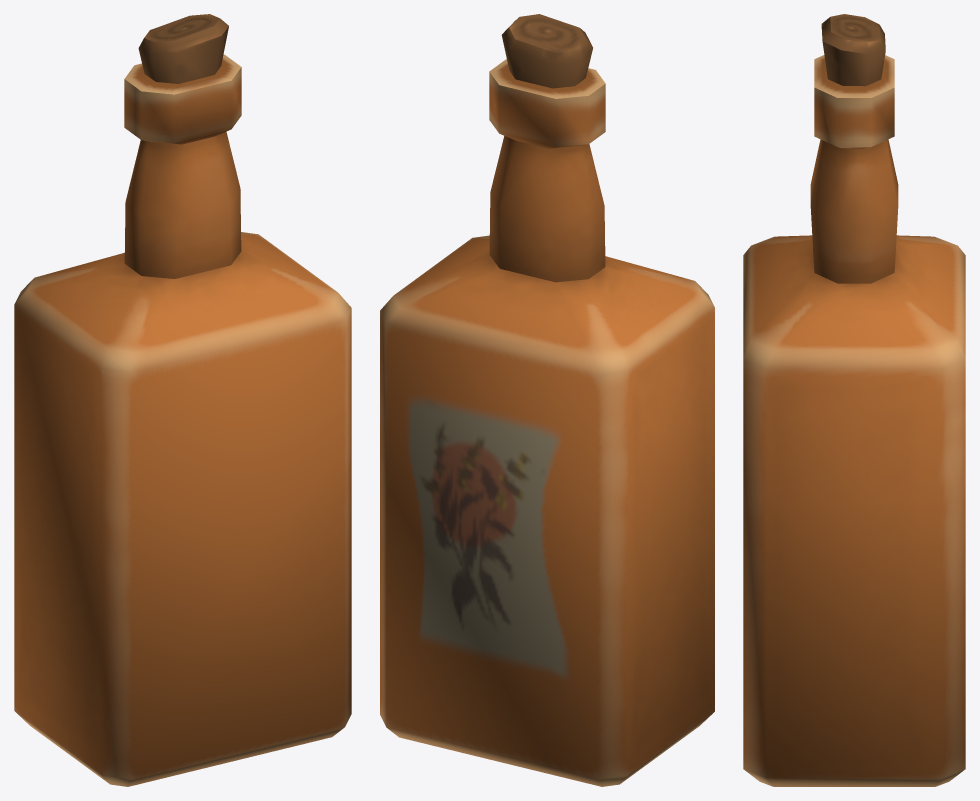
3 renders of one model, left to right at view 1: azimuth 30°, elevation 25°; view 2: azimuth 150°, elevation 25°; view 3: azimuth 270°, elevation 25°, orthographic.
Visible parts, largest first — view 1: submesh_0; view 2: submesh_0; view 3: submesh_0.
Boxes of the visible parts, <box> form: submesh_0: <box>14,14,351,786</box>; submesh_0: <box>380,14,714,786</box>; submesh_0: <box>743,14,965,786</box>.
Size of the model in its own units: 0.1862 by 0.503 by 0.1431.
Materials: 1 (1 with a texture image).
